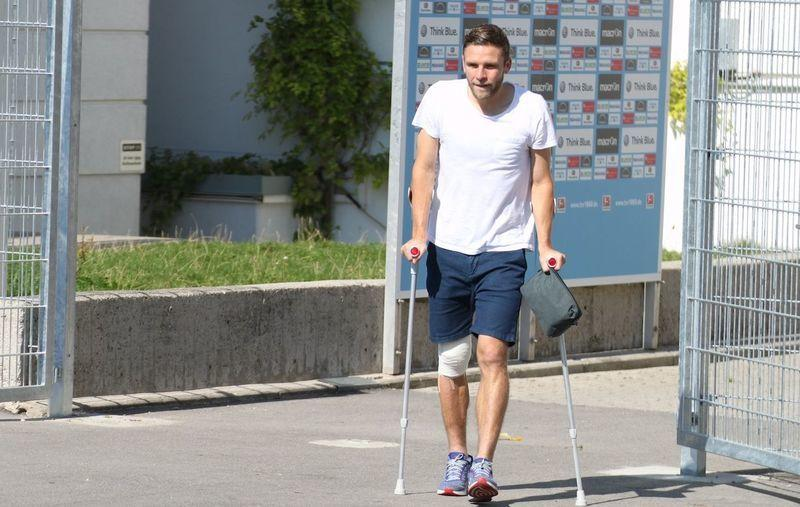crutches: (394, 25, 586, 507)
